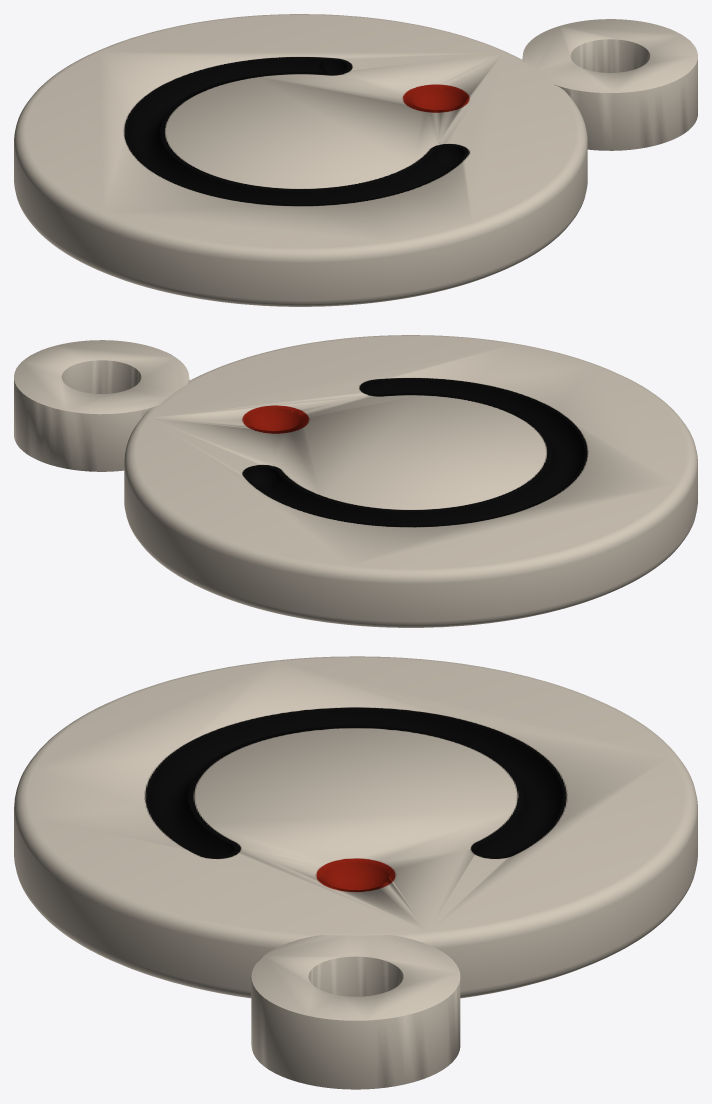
Rendered from chaveiro.glb.
3 renders of one model, top to bottom at view 1: azimuth 30°, elevation 25°; view 2: azimuth 150°, elevation 25°; view 3: azimuth 270°, elevation 25°, orthographic. The views are drawn at different scales.
Visible parts, largest first — view 1: Cinerea_Chaveiro; view 2: Cinerea_Chaveiro; view 3: Cinerea_Chaveiro.
Boxes of the visible parts, x1=… form: Cinerea_Chaveiro: x1=14, y1=14, x2=697, y2=306; Cinerea_Chaveiro: x1=14, y1=335, x2=697, y2=627; Cinerea_Chaveiro: x1=14, y1=656, x2=697, y2=1089.
Size of the model in its own units: 0.0459 by 0.004 by 0.036.
Materials: 1 (1 with a texture image).
